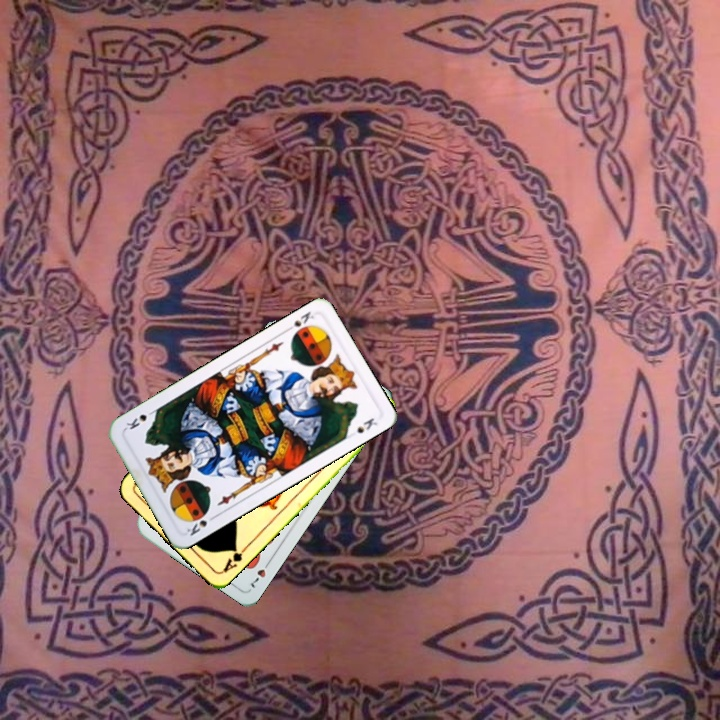GA: (218, 542, 250, 575)
H7: (245, 556, 274, 591)
SK: (183, 511, 219, 539), (281, 307, 316, 335)
